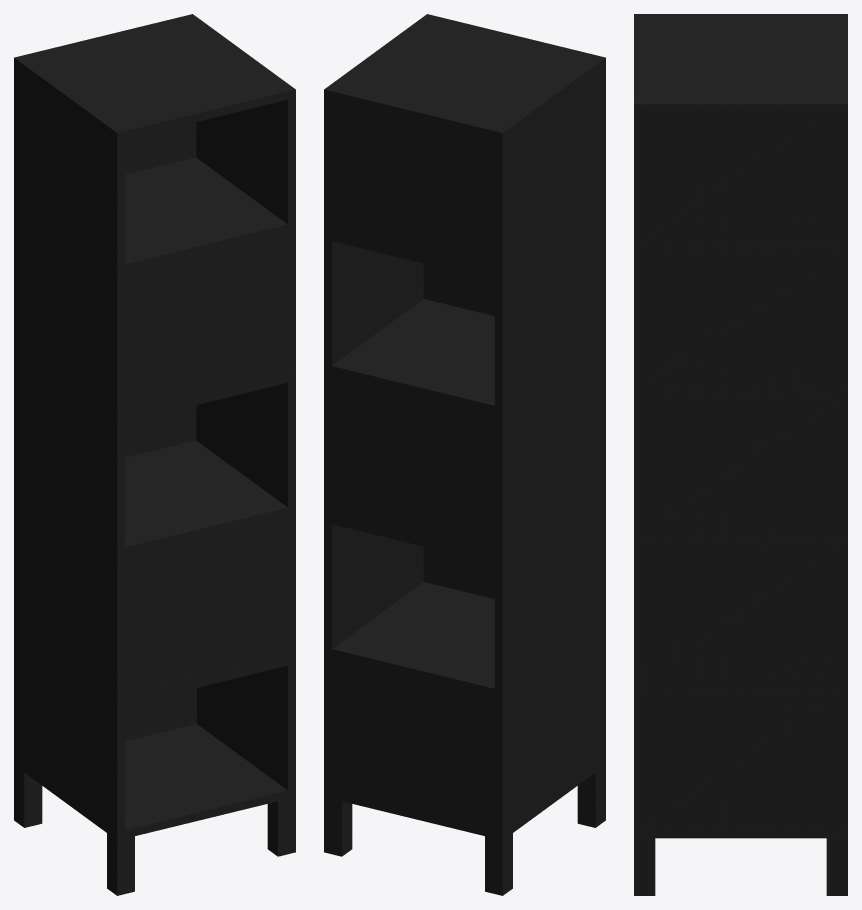
The model's file is stellage.glb.
The picture shows the model from 3 angles, left to right: view 1: azimuth 30°, elevation 25°; view 2: azimuth 150°, elevation 25°; view 3: azimuth 270°, elevation 25°; orthographic projection. The views are drawn at different scales.
Visible parts, largest first — view 1: Robot; view 2: Robot; view 3: Robot.
Boxes of the visible parts, bbox=[...] form: Robot: bbox=[14, 14, 295, 895]; Robot: bbox=[324, 14, 605, 895]; Robot: bbox=[634, 14, 847, 895].
Bounding box in the file's own units: 1.12 × 4.58 × 1.12.
Materials: 1 (1 with a texture image).
